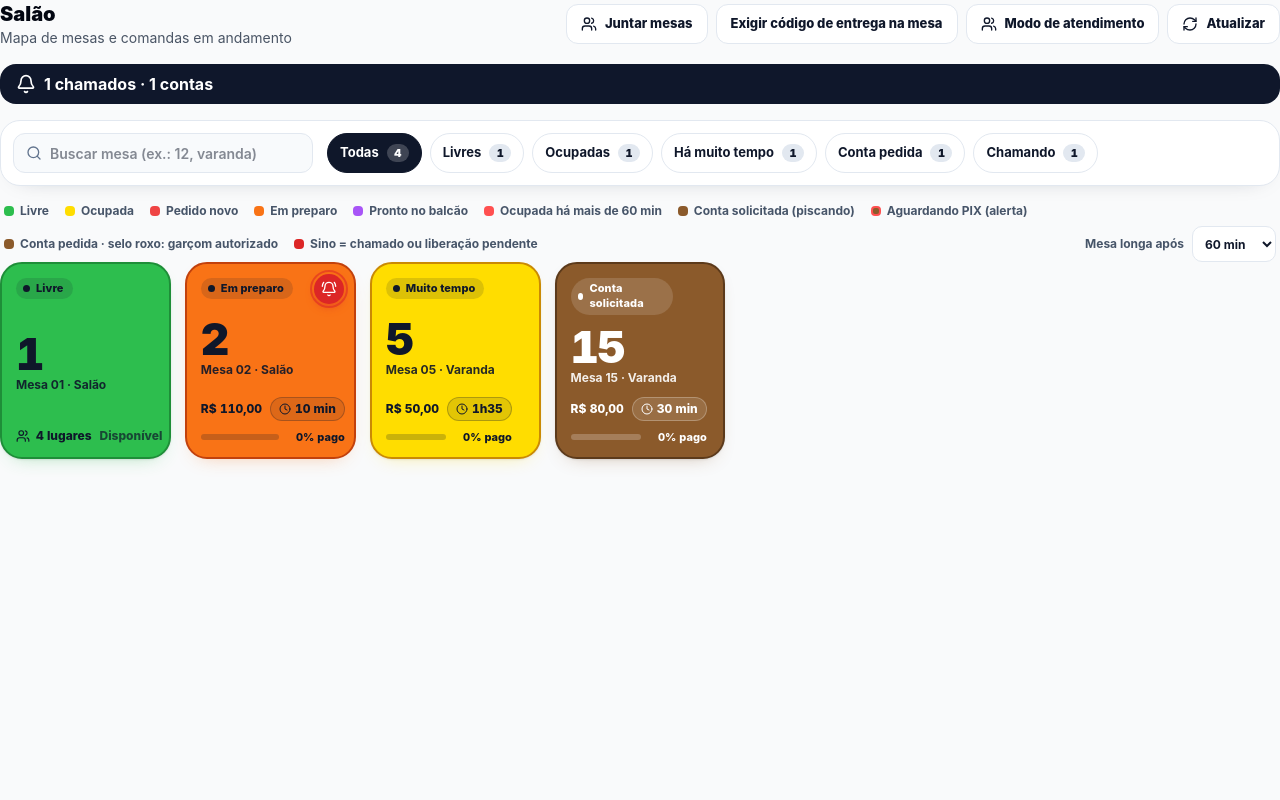
Test: SalonPage — mapa de mesas › antes da migração (banco sem as funções novas) › esconde pausa de QR e PIX da conta, mas o fechamento manual segue igual
Click the button with test id "salon-table-t2": (270, 361) [185, 262, 356, 459]
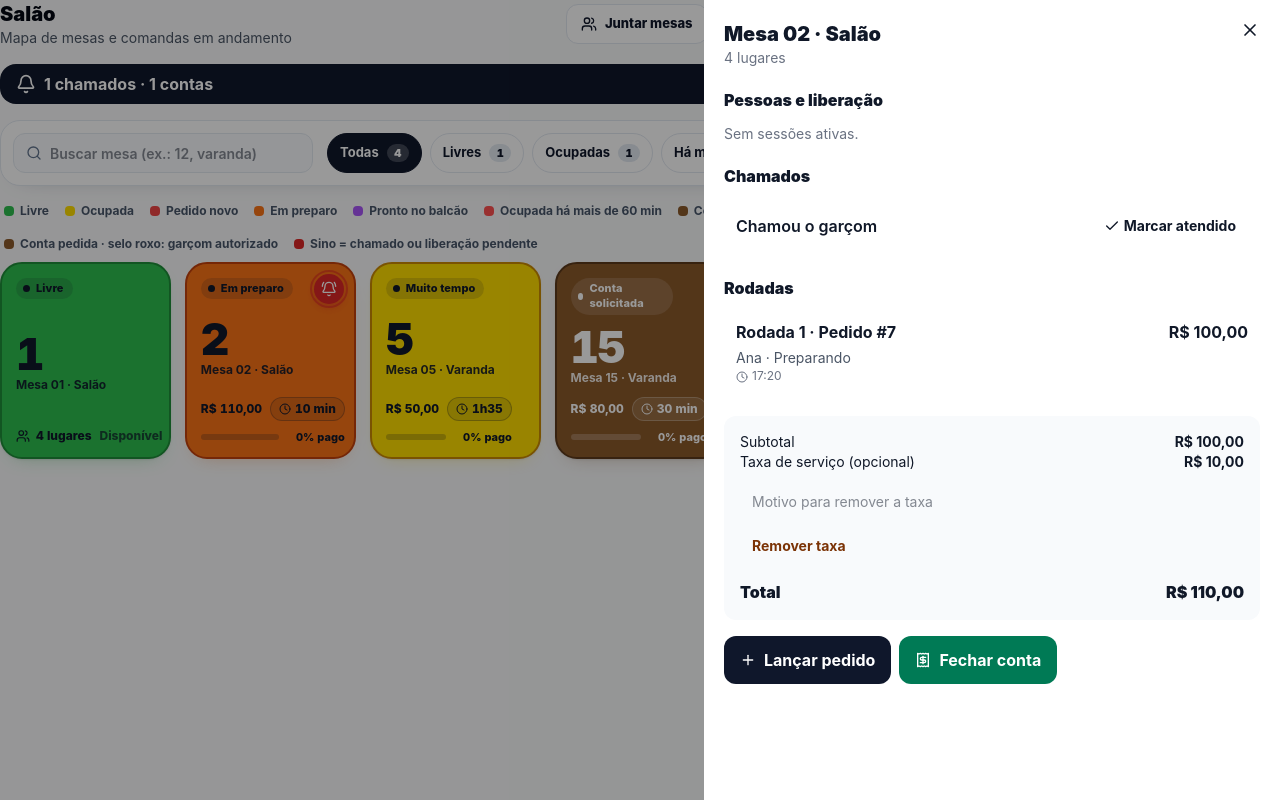
Click the button "Fechar conta": (978, 660) [899, 636, 1057, 684]
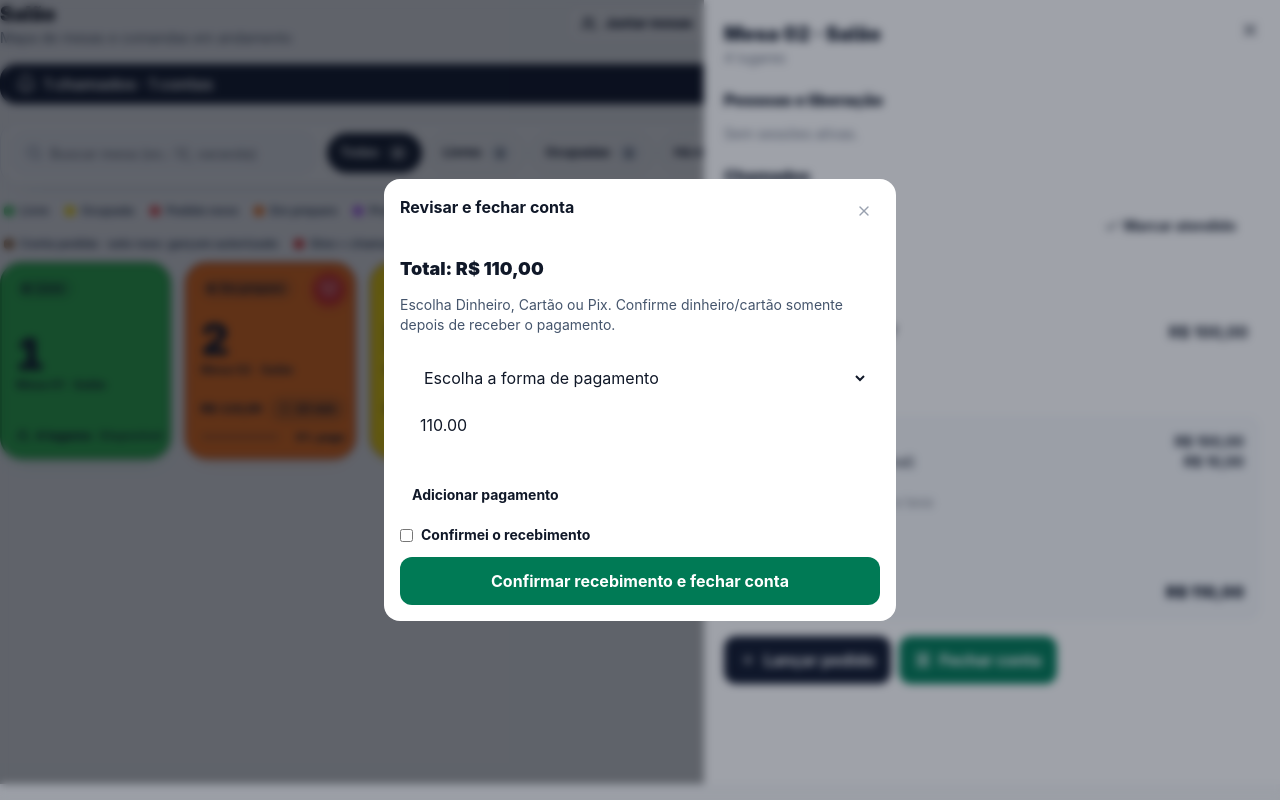
Now the button "Confirmar recebimento e fechar conta" is shown, box [400, 557, 880, 605]
